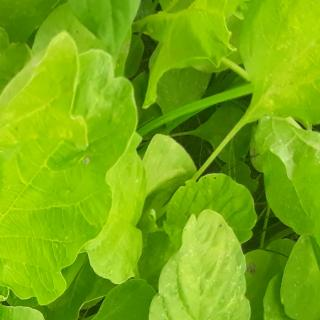karat_putih: (0, 29, 80, 202)
